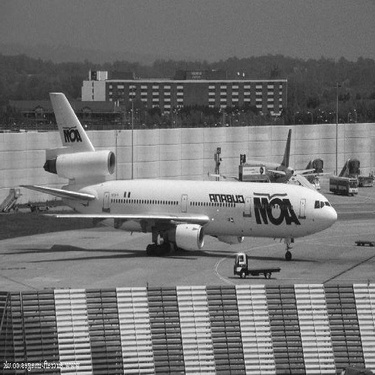airplane: (1, 64, 358, 283), (186, 117, 338, 208)
